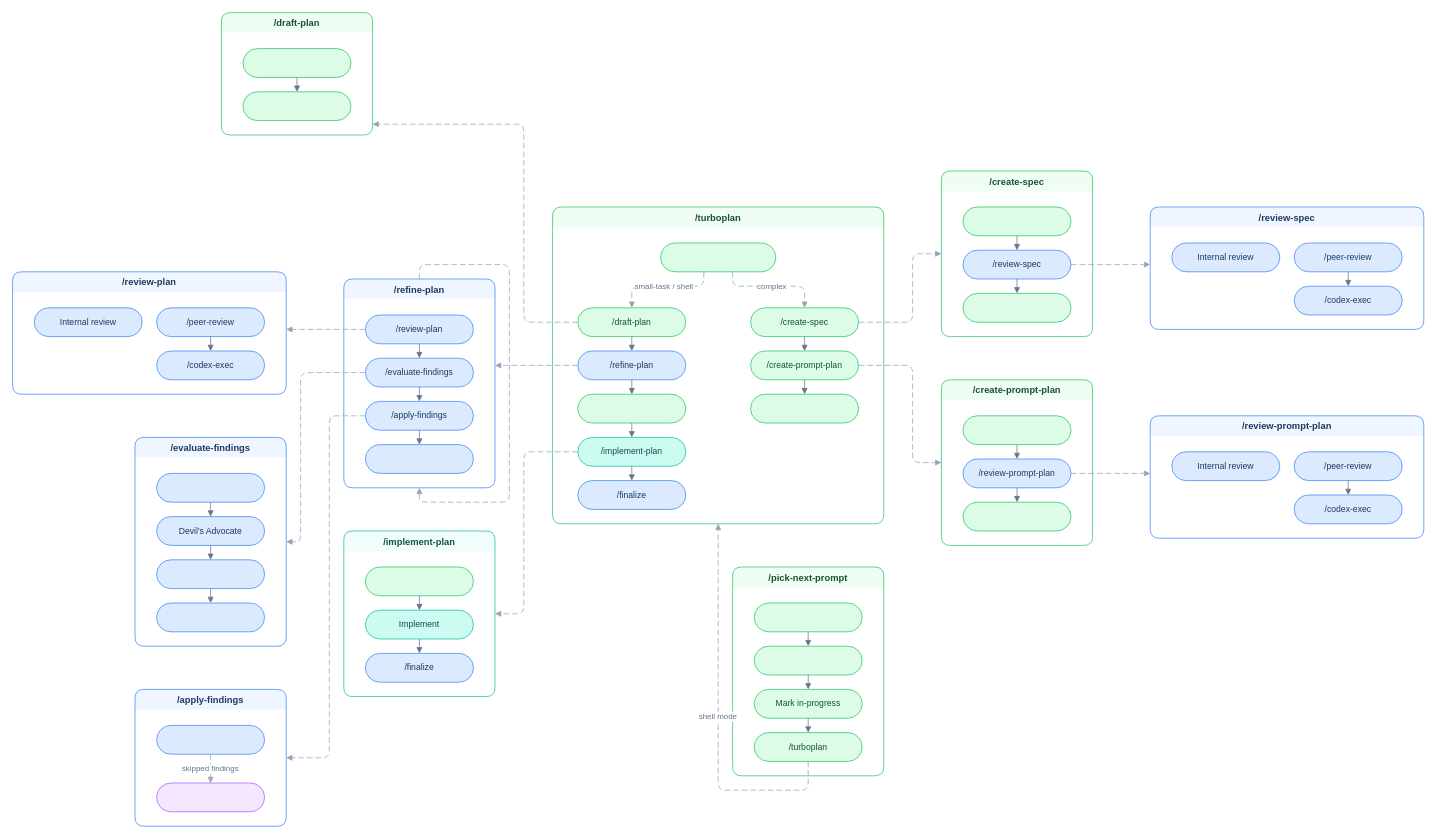
Some shapes in this 1436 by 839 pixel diagram are drawn without their labels. Here are the shapes that lost their labels. From the top down, the centre of each, then its label:
the point at 296,62: /survey-patterns
the point at 296,106: Draft plan
the point at 1016,221: Discussion
the point at 718,257: Analyze complexity
the point at 1016,307: Finalize spec
the point at 631,408: Confirm with user
the point at 804,408: Halt
the point at 1016,430: Decompose
the point at 419,458: Re-run if changed
the point at 210,487: Assess each finding
the point at 1016,516: Write shells
the point at 210,574: Reconciliation
the point at 419,581: /code-style
the point at 210,617: Format Output
the point at 807,617: Resolve index
the point at 807,660: Pick next ready
the point at 210,739: Apply fixes
the point at 210,797: /note-improvement
